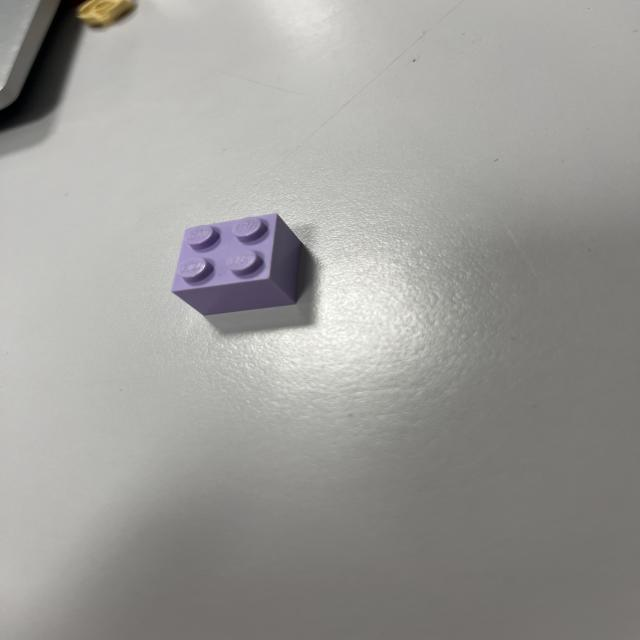C2x2x1: (169, 210, 316, 320)
